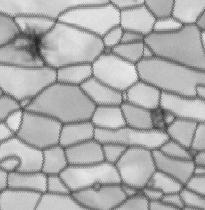good_void: (11, 19, 54, 70), (146, 102, 173, 131)
